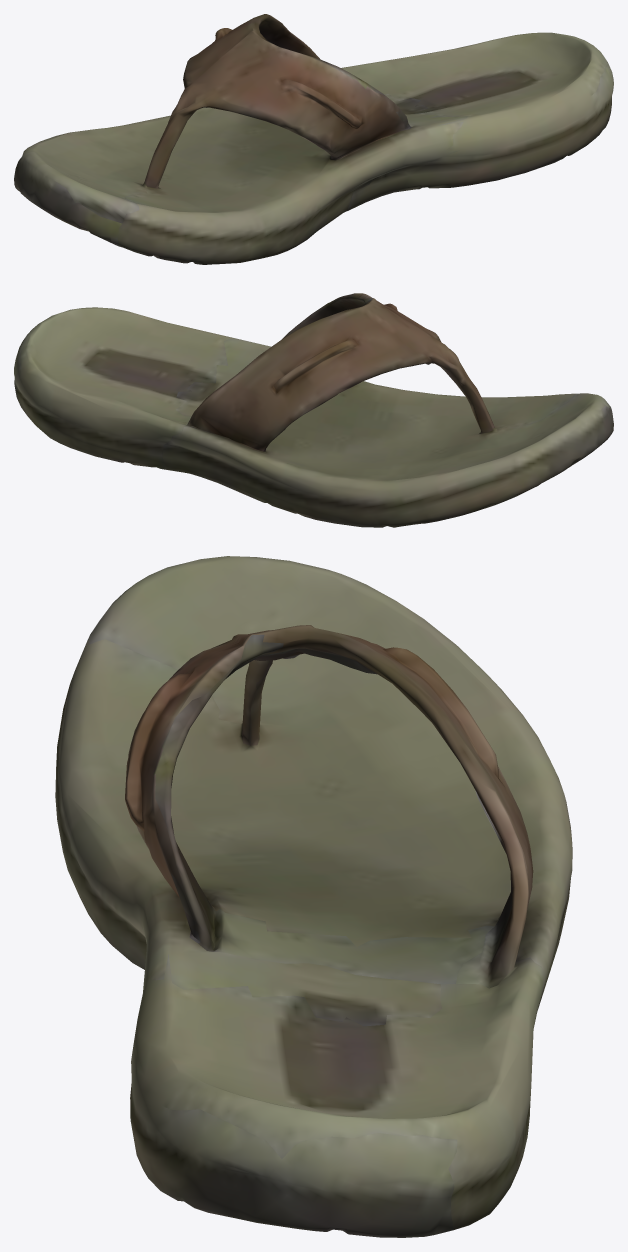
The model's file is Mens_Santa_Cruz_Thong_in_Chocolate_La1fo2mAovE-high.glb.
3 views of the same model, one above another, from view 1: azimuth 30°, elevation 25°; view 2: azimuth 150°, elevation 25°; view 3: azimuth 270°, elevation 25° (orthographic). The views are drawn at different scales.
Parts seen in each view (by area): view 1: Mens_Santa_Cruz_Thong_in_Chocolate_La1fo2mAovE; view 2: Mens_Santa_Cruz_Thong_in_Chocolate_La1fo2mAovE; view 3: Mens_Santa_Cruz_Thong_in_Chocolate_La1fo2mAovE.
Part boxes in pixels (x1=…): Mens_Santa_Cruz_Thong_in_Chocolate_La1fo2mAovE: x1=14, y1=14, x2=613, y2=264; Mens_Santa_Cruz_Thong_in_Chocolate_La1fo2mAovE: x1=14, y1=293, x2=613, y2=527; Mens_Santa_Cruz_Thong_in_Chocolate_La1fo2mAovE: x1=55, y1=556, x2=572, y2=1237.
Size of the model in its own units: 0.2924 by 0.0842 by 0.1185.
1 material, 1 textured.
